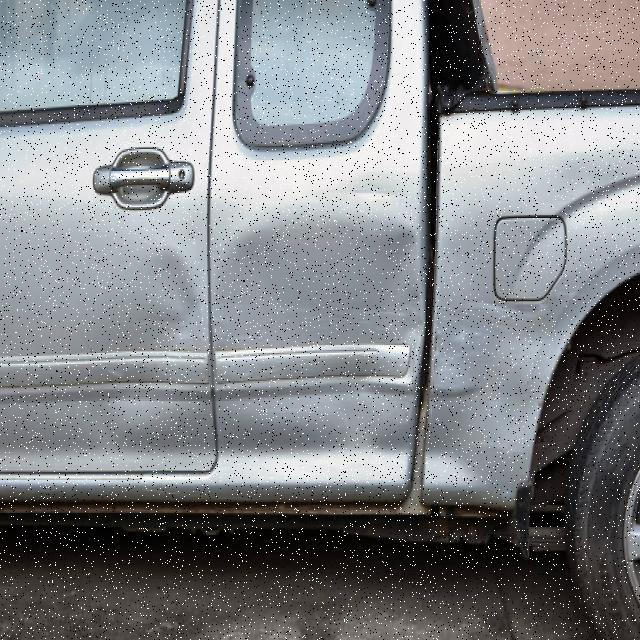doorouter-dent: (3, 102, 218, 483), (214, 127, 426, 490)
quaterpanel-dent: (427, 111, 624, 502)
